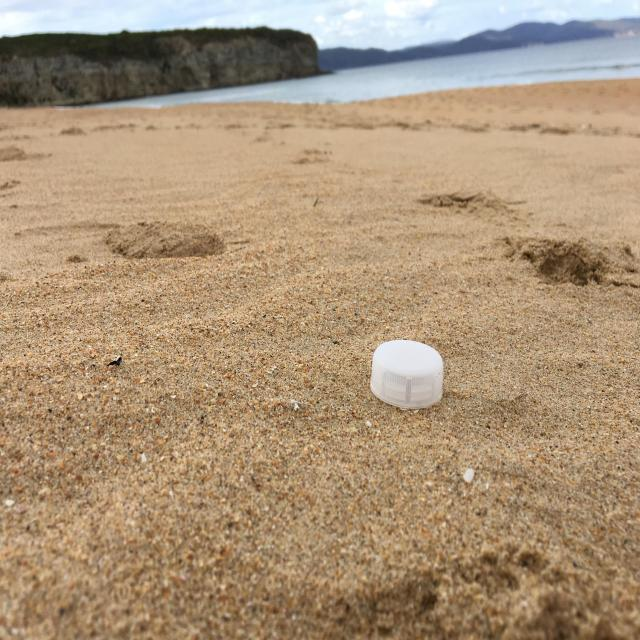Plastic bottle cap: (370, 340, 443, 409)
